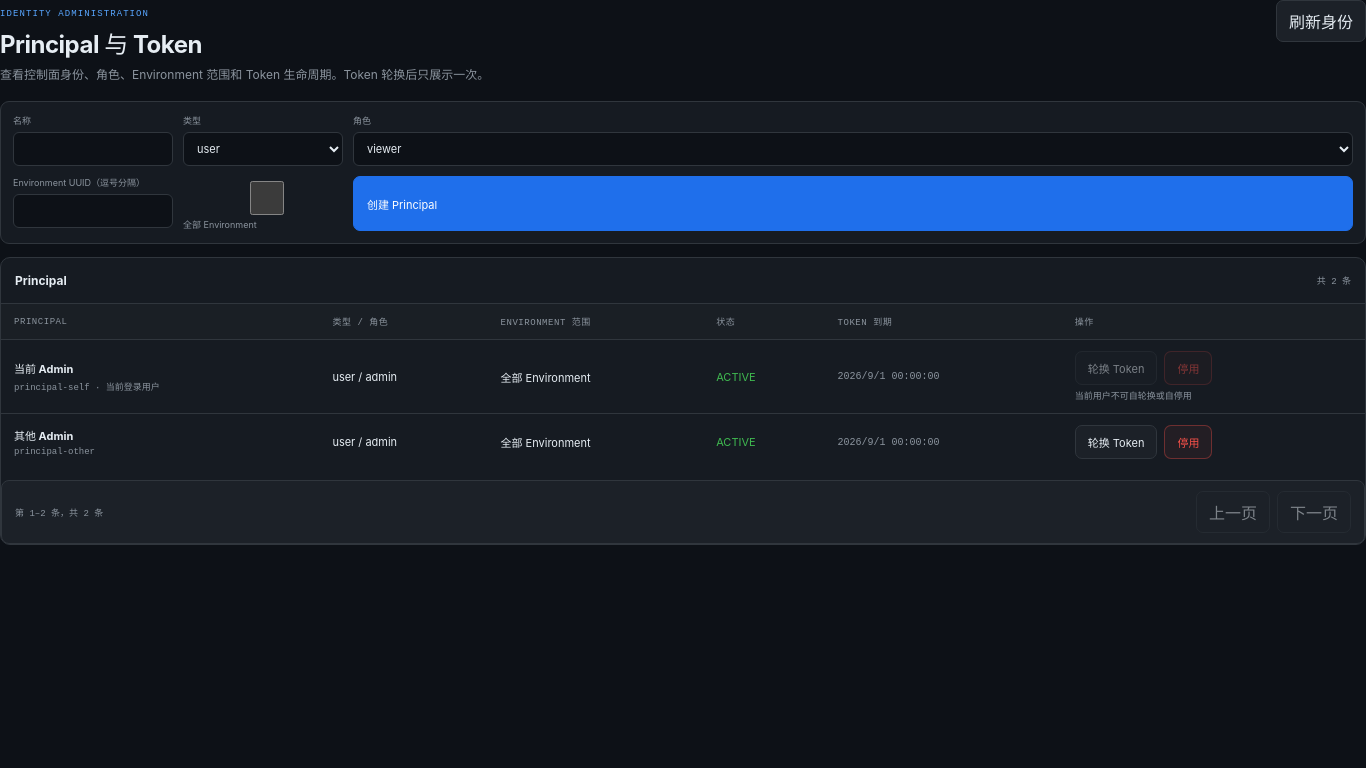
Scenario: Identity Admin safety › keeps the one-time Token visible without refreshing old credentials until acknowledgement
Click the button "轮换 Token" in the row of "其他 Admin" at (1116, 442), box x1=1075 y1=425 x2=1157 y2=459
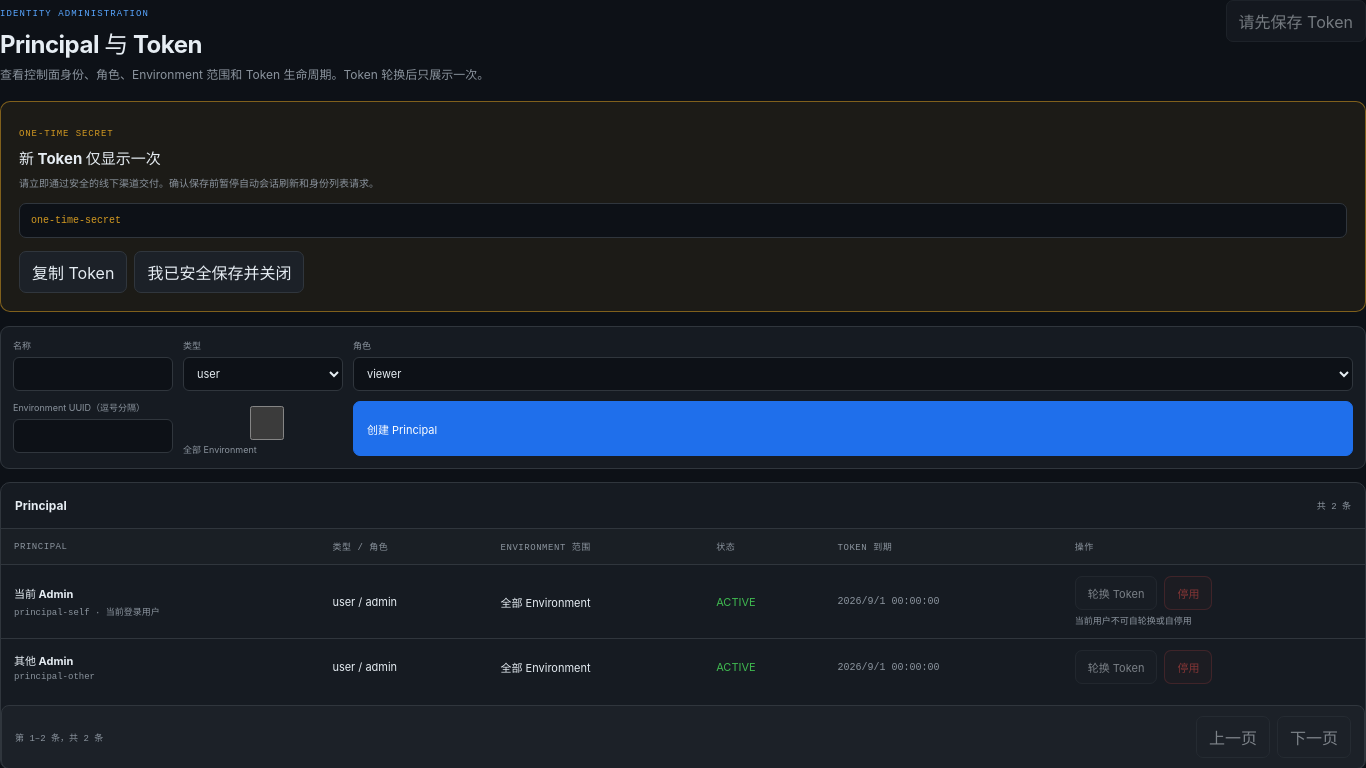
Check: the text "one-time-secret" is shown, box x1=19 y1=203 x2=1347 y2=238
Check: the button "请先保存 Token" is disabled, box x1=1226 y1=0 x2=1365 y2=42
Click the button "我已安全保存并关闭" at (219, 272), box x1=134 y1=251 x2=304 y2=293
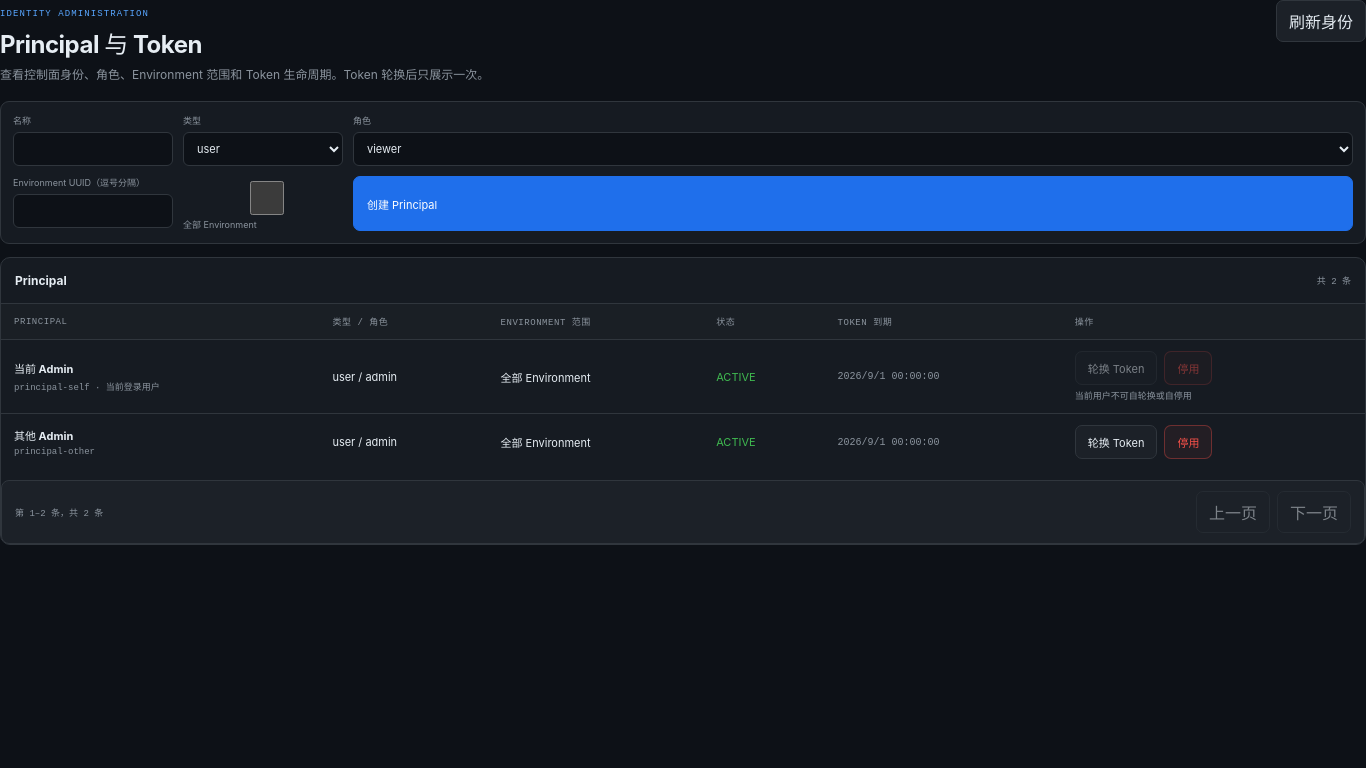
Check: the text "one-time-secret" is gone
